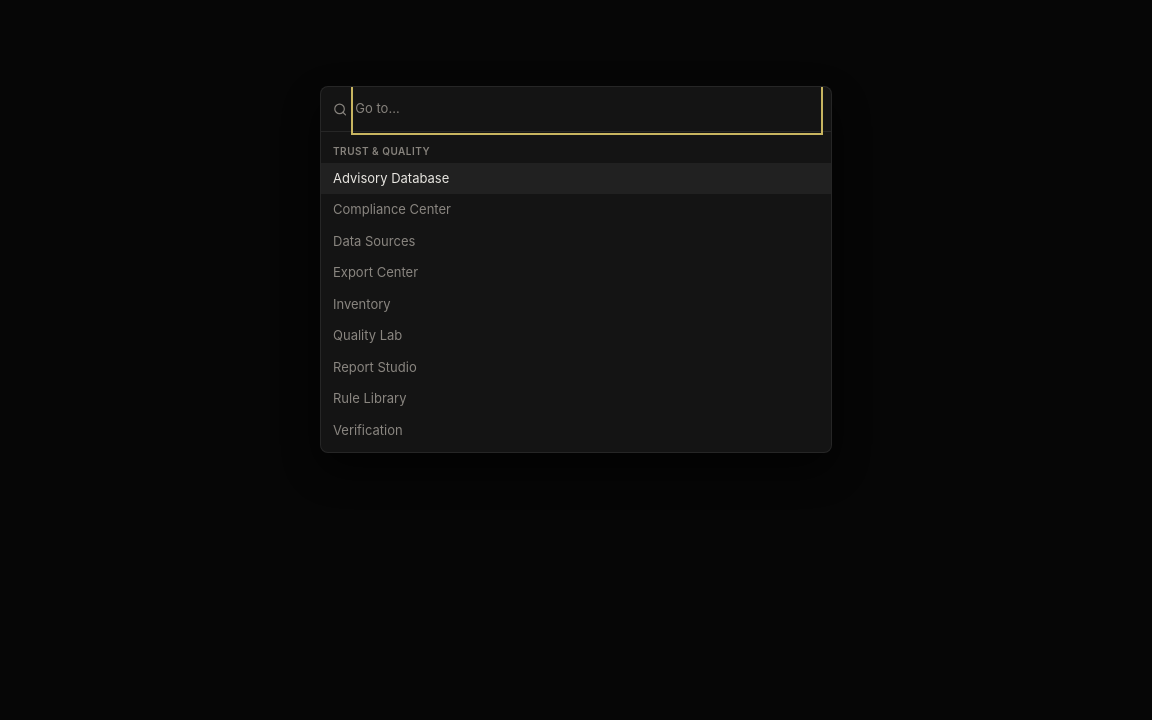
Test: CommandPalette › says so when nothing matches
Type "qqqzzz" into the field named "search commands". click: (587, 109)
box: [355,87,819,131]
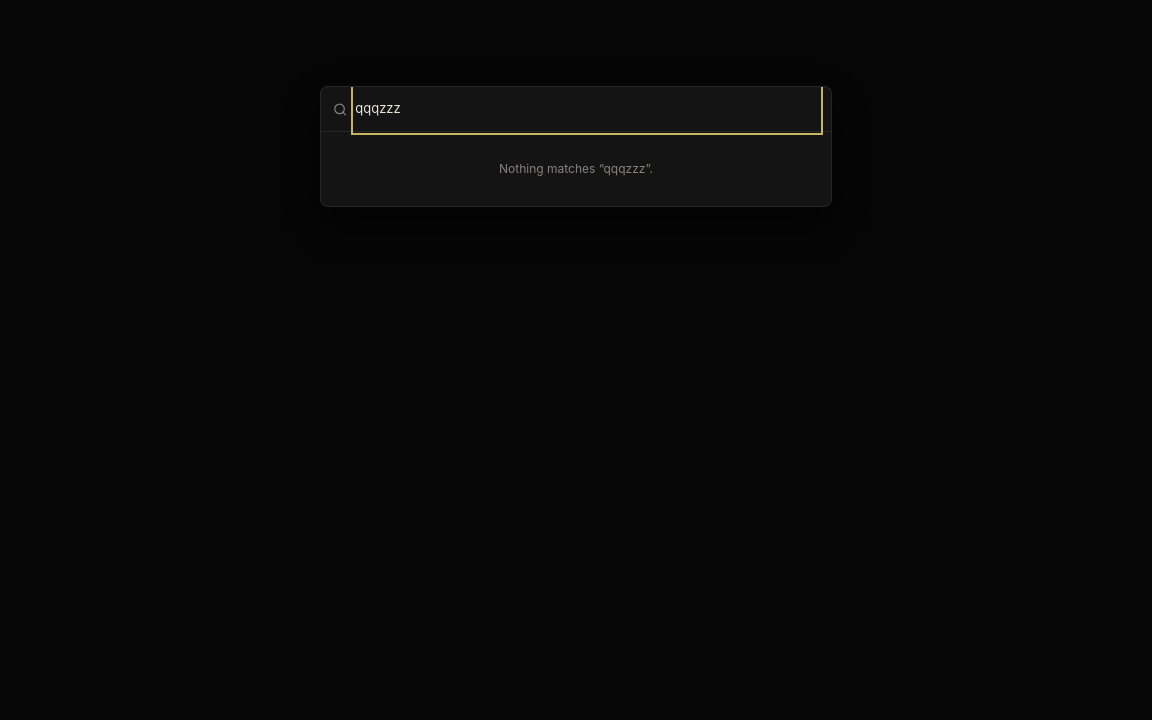
expect the message shows "Nothing matches": met, box [499,161,604,176]
